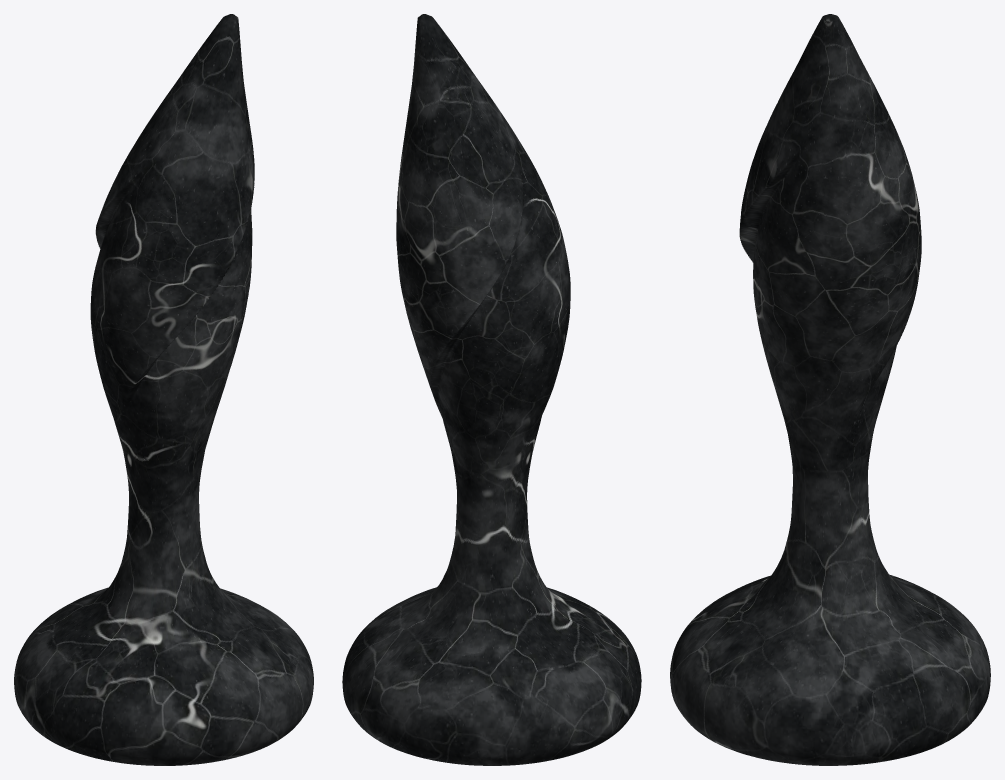
File: queen-black-hd.glb
3 views of the same model, side by side, from view 1: azimuth 30°, elevation 25°; view 2: azimuth 150°, elevation 25°; view 3: azimuth 270°, elevation 25° (orthographic). The views are drawn at different scales.
Visible parts, largest first — view 1: Serpentina_queen_black; view 2: Serpentina_queen_black; view 3: Serpentina_queen_black.
Boxes of the visible parts, left/top/right/bottom form: Serpentina_queen_black: left=14, top=14, right=313, bottom=765; Serpentina_queen_black: left=342, top=14, right=641, bottom=765; Serpentina_queen_black: left=670, top=14, right=990, bottom=765.
Size of the model in its own units: 0.6495 by 1.62 by 0.6493.
1 material, 1 textured.
